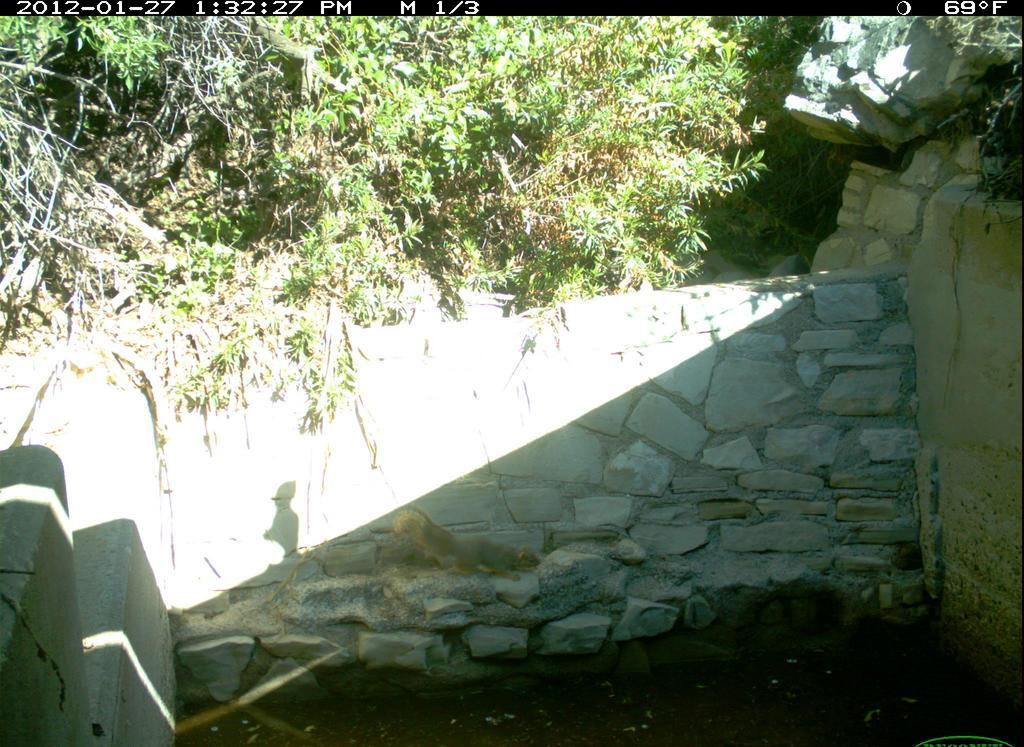squirrel: (377, 497, 555, 593)
